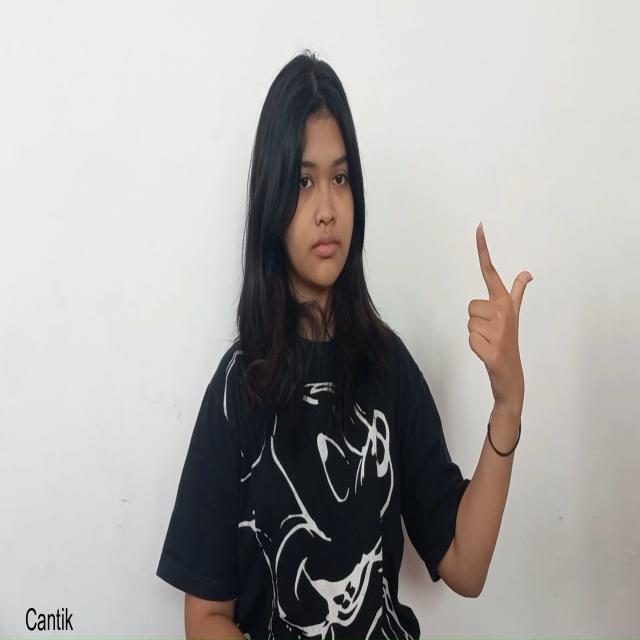Cantik -BISINDO-: (467, 220, 535, 427)
